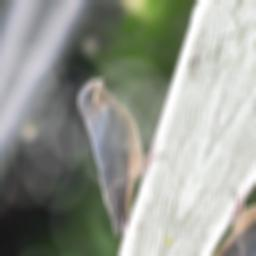Swallow: (33, 69, 184, 243)
